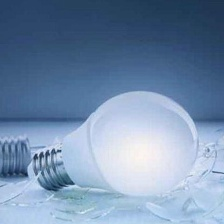light_bulb: (20, 85, 201, 201)
